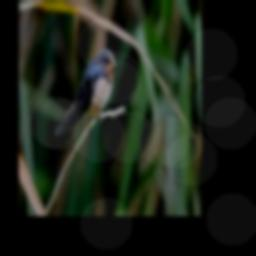Swallow: (53, 49, 115, 136)
